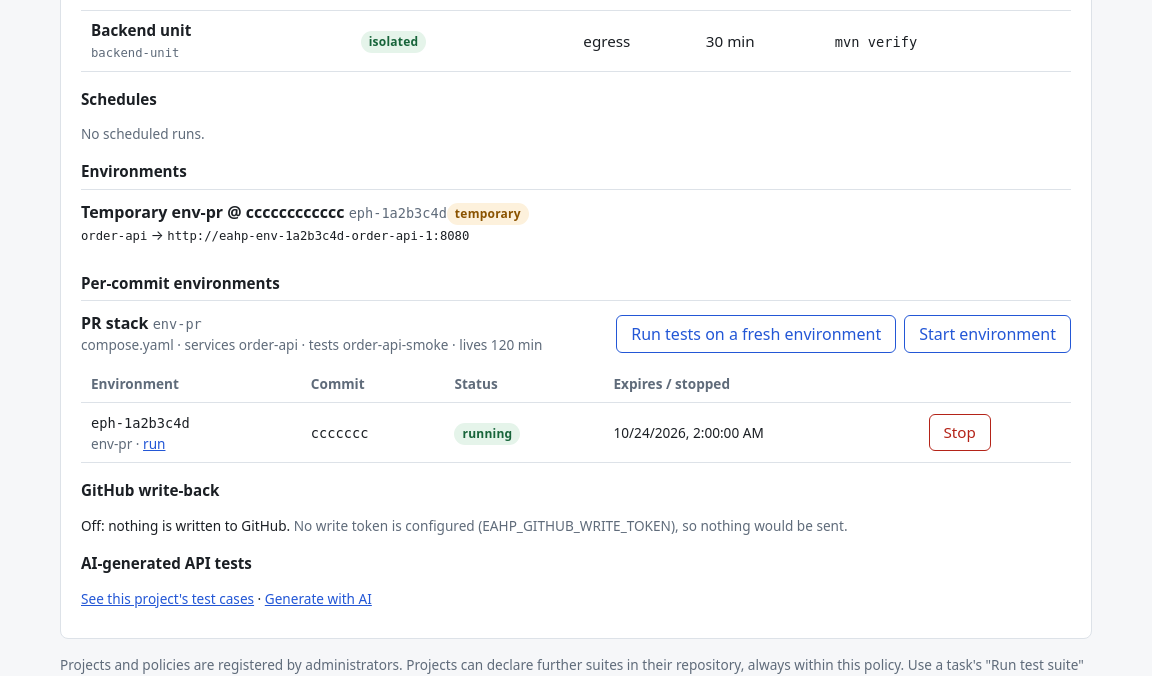
Scenario: QA console › starts environment tests on a fresh stack and stops temporary environments
This screenshot has width=1152, height=676.
(page scrolled)
Expected: the text "PR stack" is shown, [81, 312, 148, 334]
Expected: the text "temporary" is shown, [447, 203, 529, 225]
Click the button "Run tests on a fresh environment" at (756, 334), box [616, 314, 896, 352]
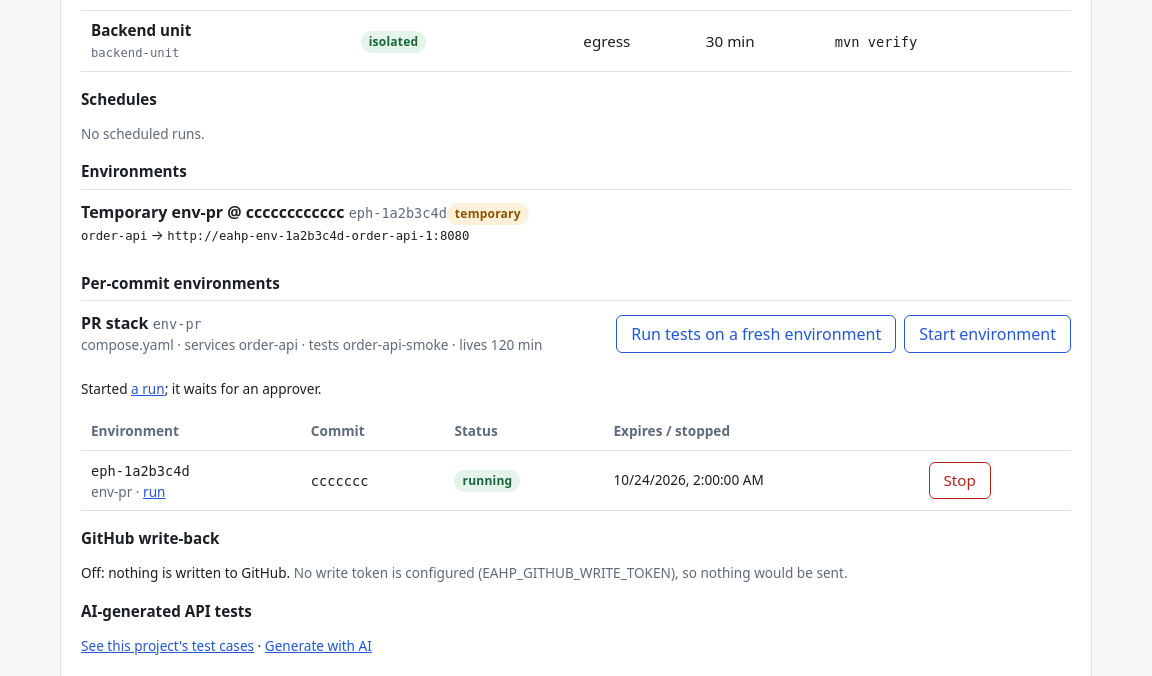
Expected: the text "running" is shown, [454, 470, 520, 492]
Click the button "Stop" at (960, 480), box [928, 462, 991, 499]
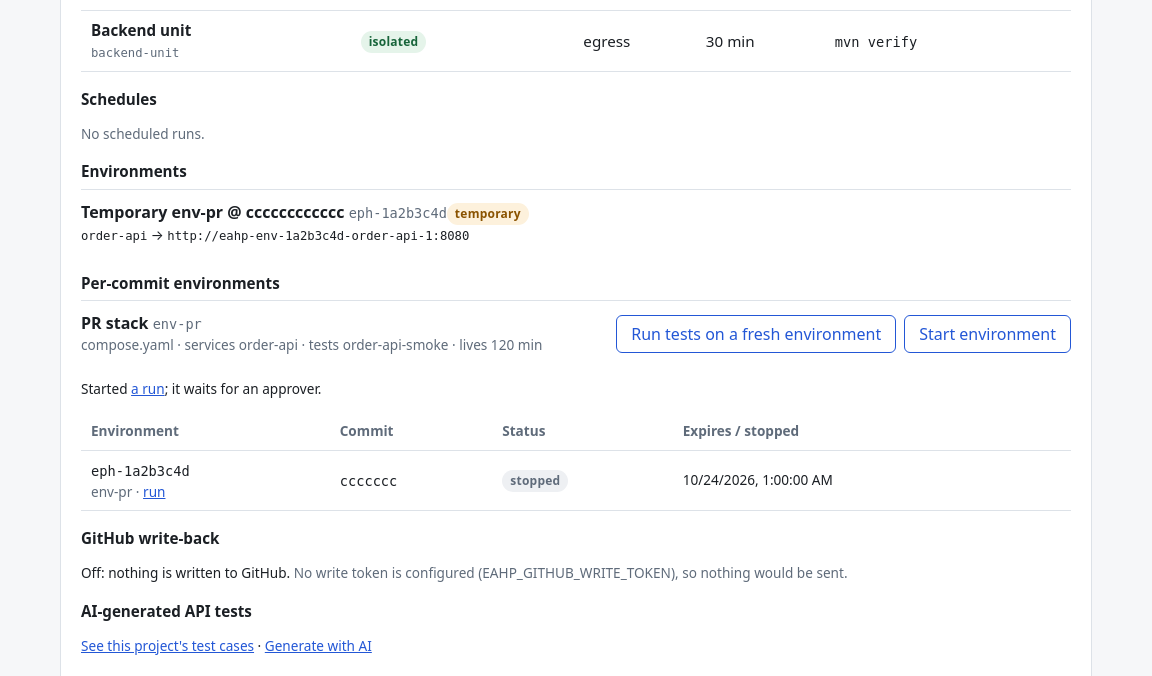
Expected: the text "stopped" is shown, [502, 470, 568, 492]
